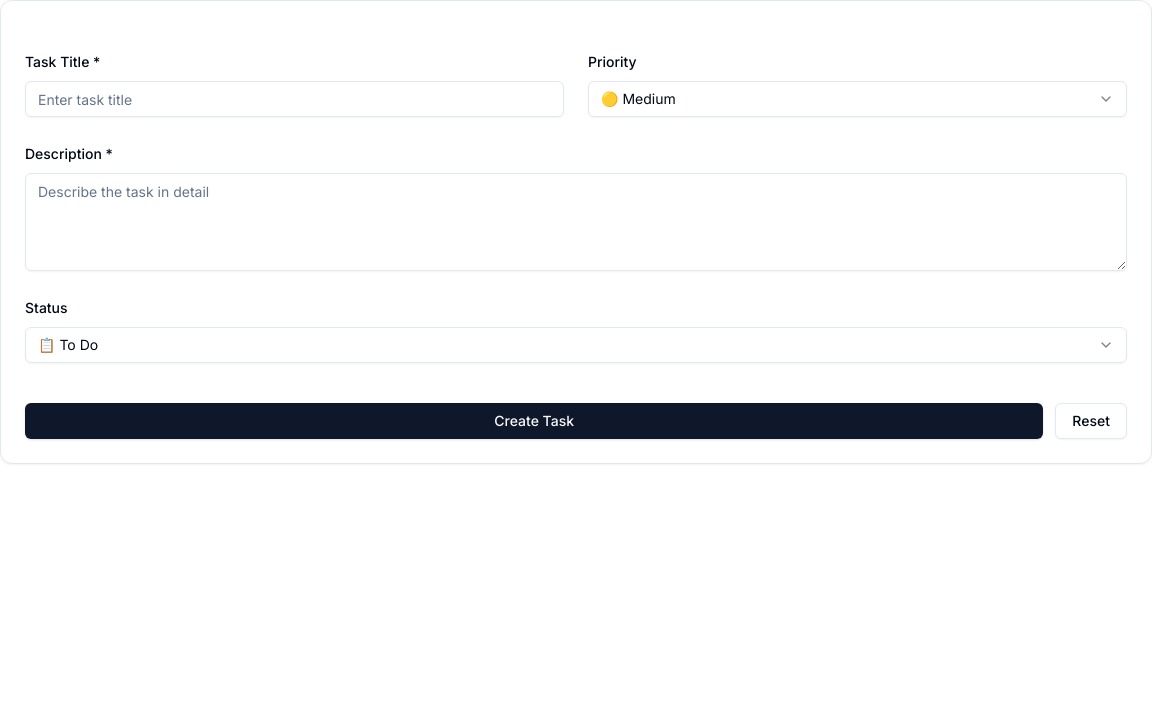
Test: TaskForm Component › Form Validation › menghilangkan error setelah field diisi
Note: Trigger validation error
Click the button "Create Task" at (534, 421), box x1=25 y1=403 x2=1043 y2=439
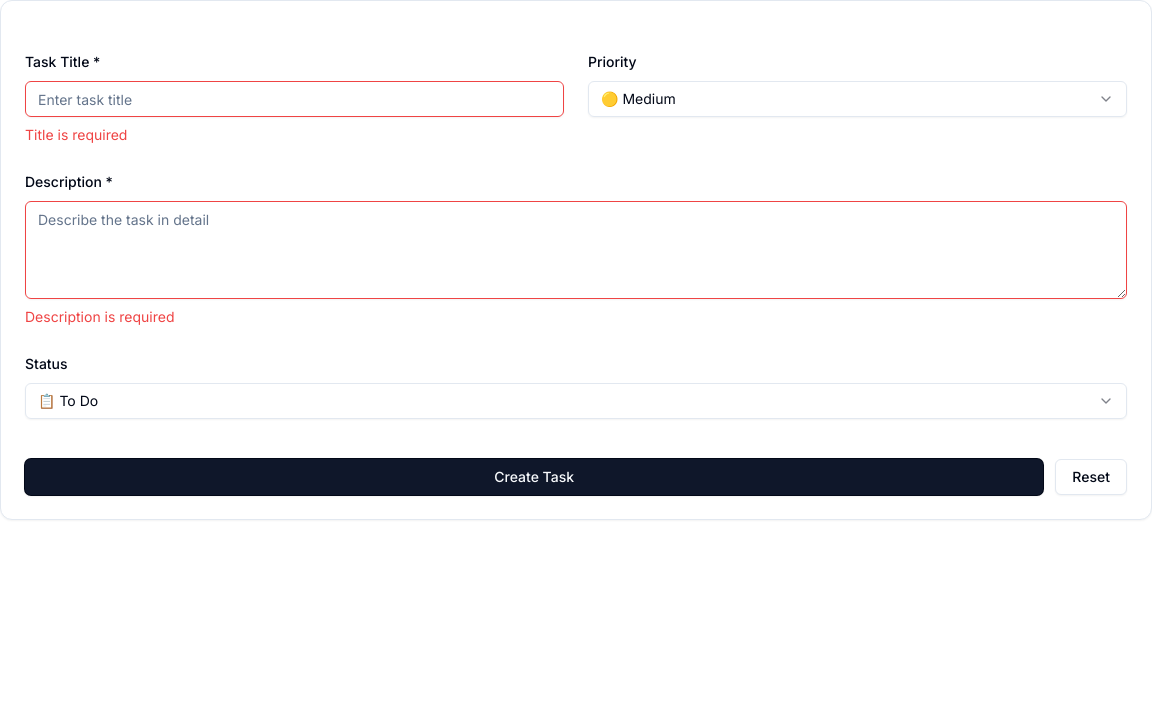
Now the text "Title is required" is shown, box x1=25 y1=126 x2=127 y2=143
Note: Fill the field
Type "New Title" into the field labelled "Task Title *" at (294, 99), box x1=25 y1=81 x2=564 y2=117
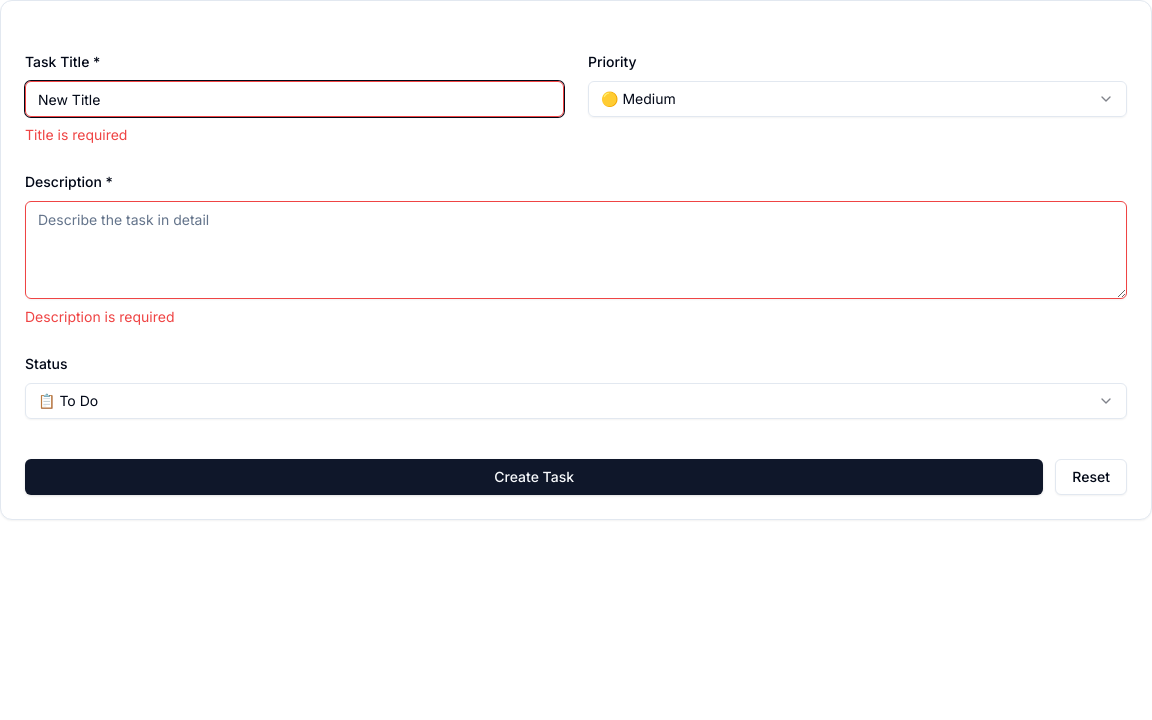
Note: Submit again to clear error
Click the button "Create Task" at (534, 477), box x1=25 y1=459 x2=1043 y2=495
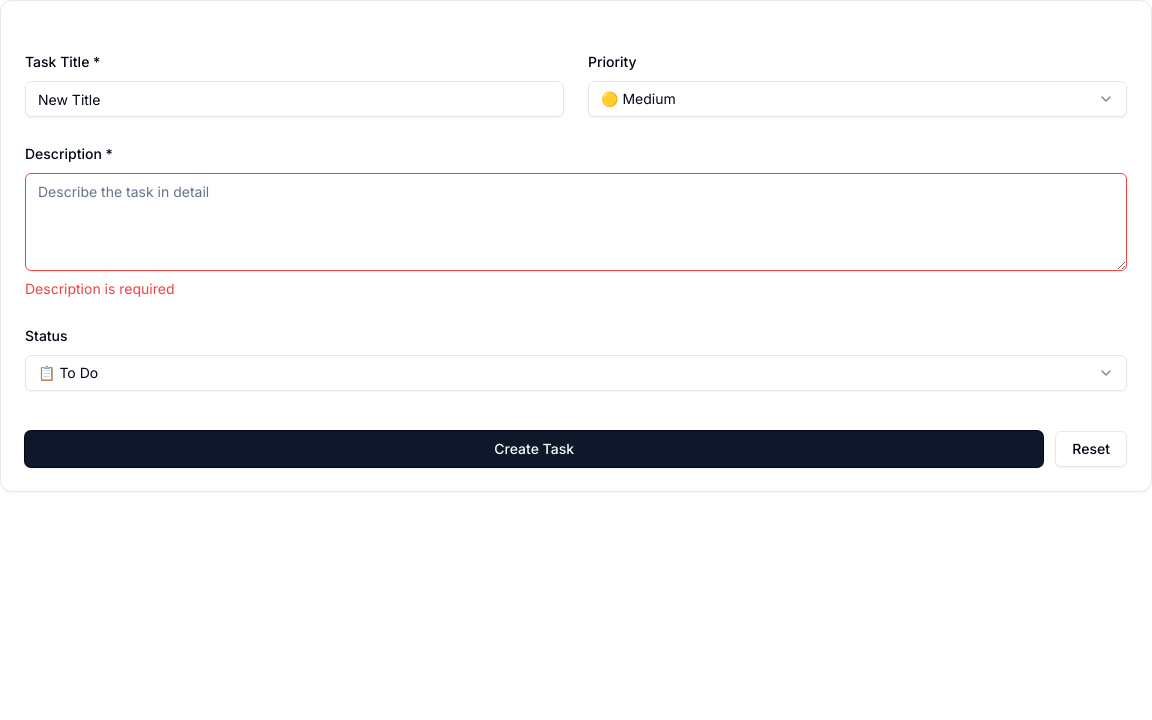
Now the text "Title is required" is gone
